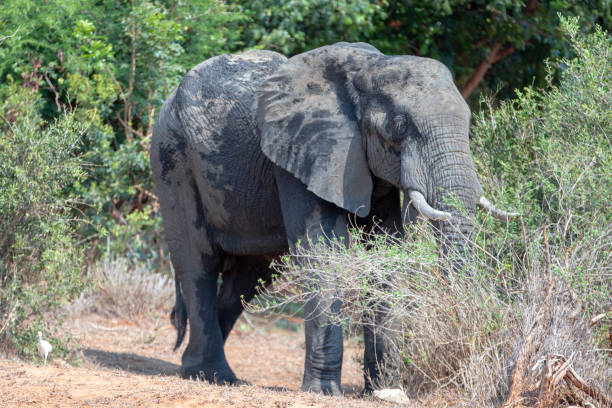africanelephant: (349, 59, 535, 260)
